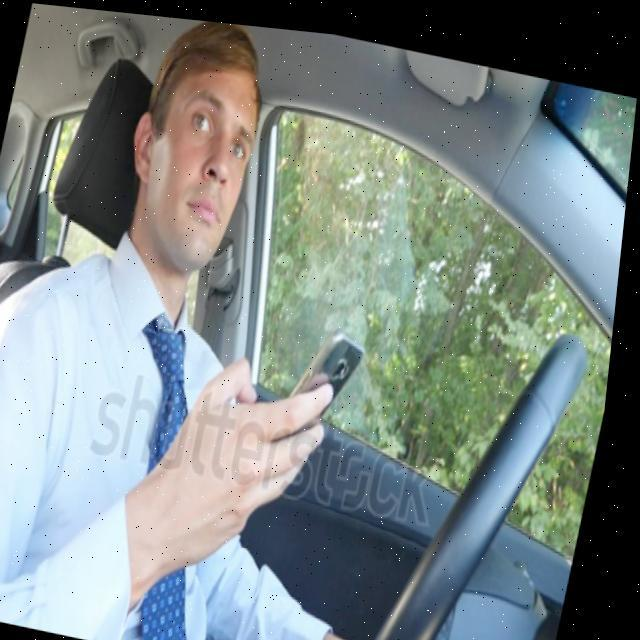PhoneCall: (278, 310, 376, 450)
